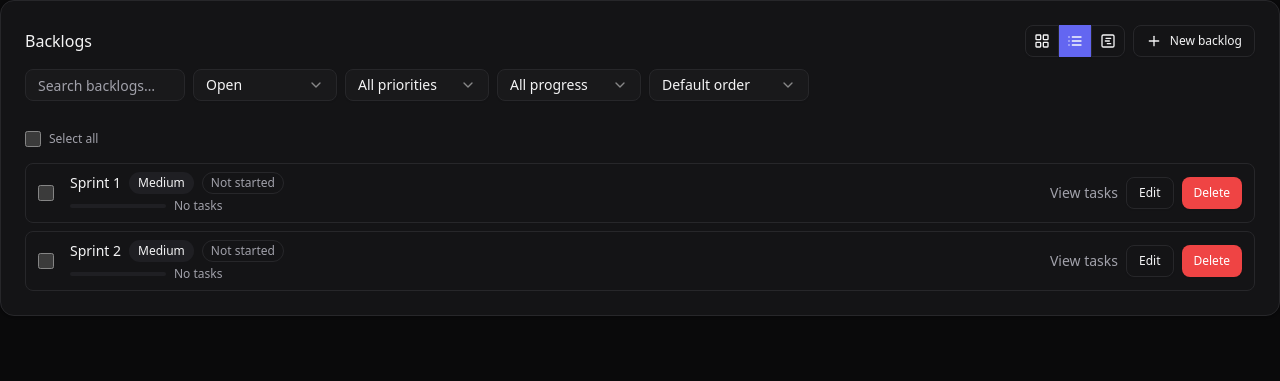
Test: the status filter › Bulk actions › selects every visible backlog at once
Click the checkbox named "Select all backlogs".
click(33, 139)  # box top-left (25, 131), bottom-right (41, 147)
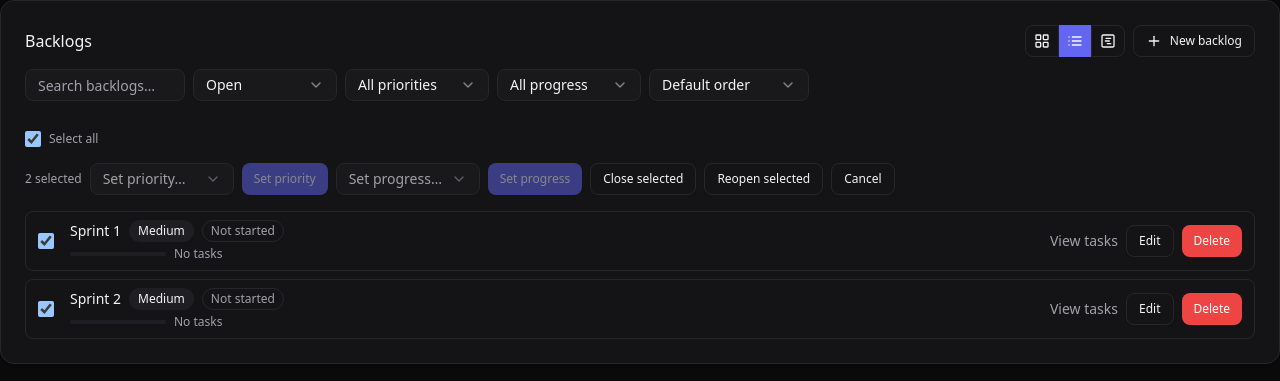
Result: the text "2 selected" is shown at top-left (25, 171), bottom-right (82, 187)
